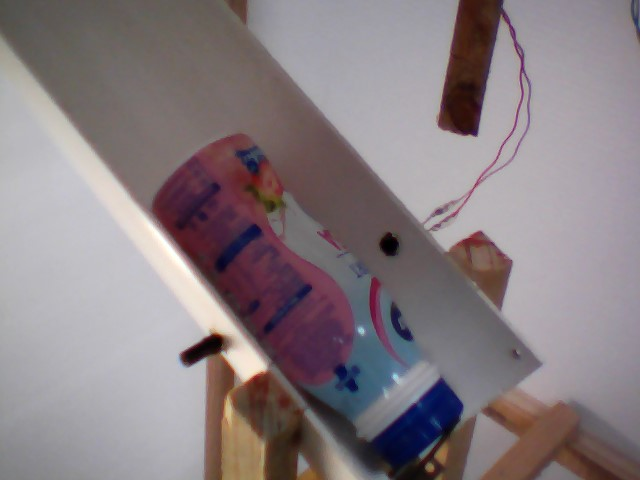plastico: (144, 120, 469, 472)
